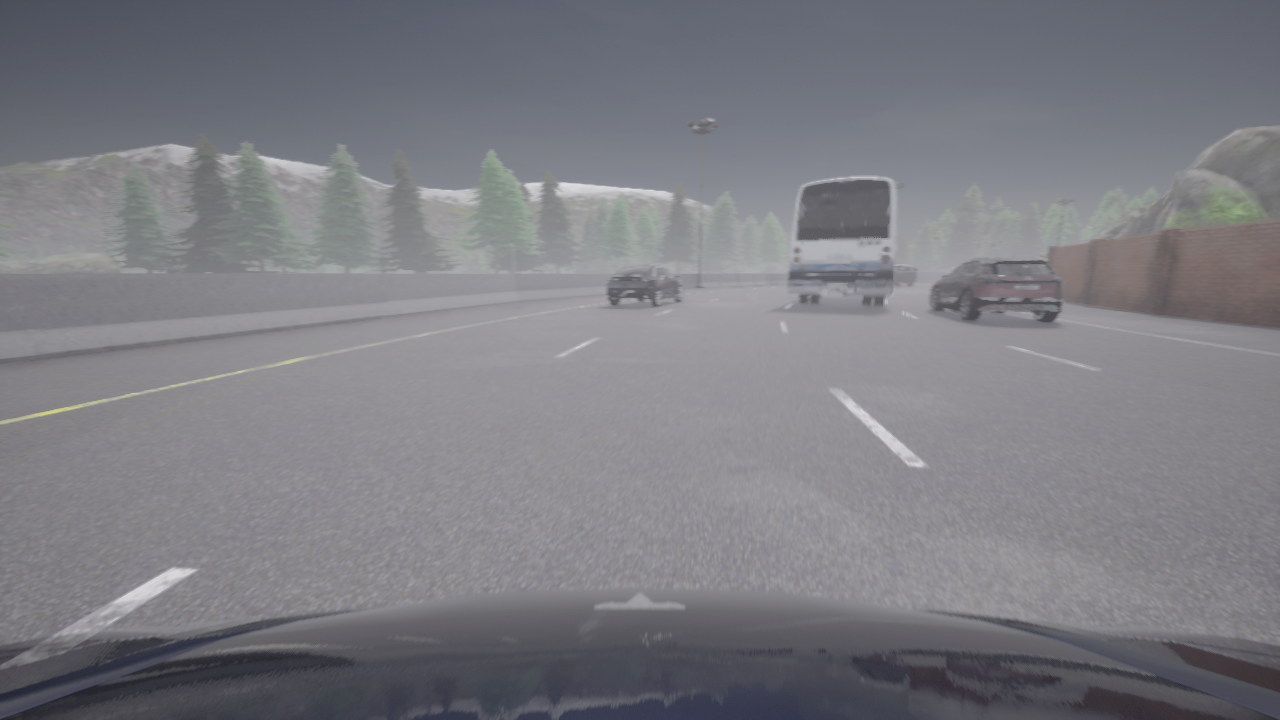cyclist: (0, 588, 1279, 719), (787, 176, 896, 305), (930, 256, 1063, 322), (606, 264, 683, 307), (893, 264, 916, 286)
